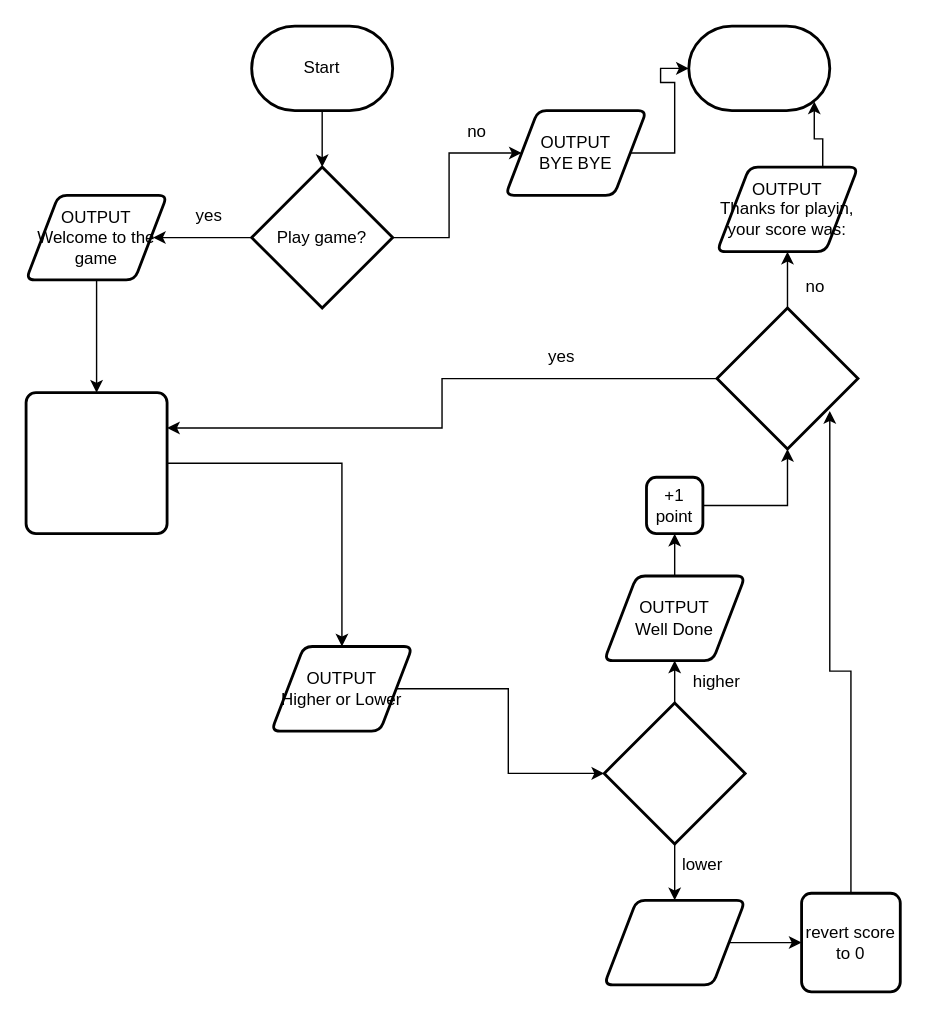
Some shapes in this 925 by 1017 pixel diagram are drawn without their labels. The shapes that lost their labels are listed below. From the top down, each one's box as (x1, y1, x2, y2) in pixels, then its label:
(687, 24, 830, 111): End
(715, 306, 859, 450): Play again?
(24, 391, 168, 534): Draw cards
(602, 701, 746, 845): Higher or Lower
(602, 898, 746, 986): OUTPUT Wrong
